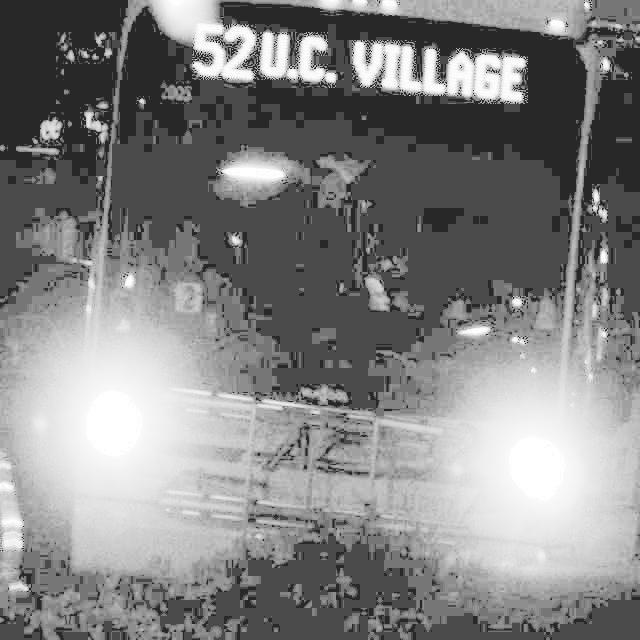Bus: (49, 0, 633, 631)
